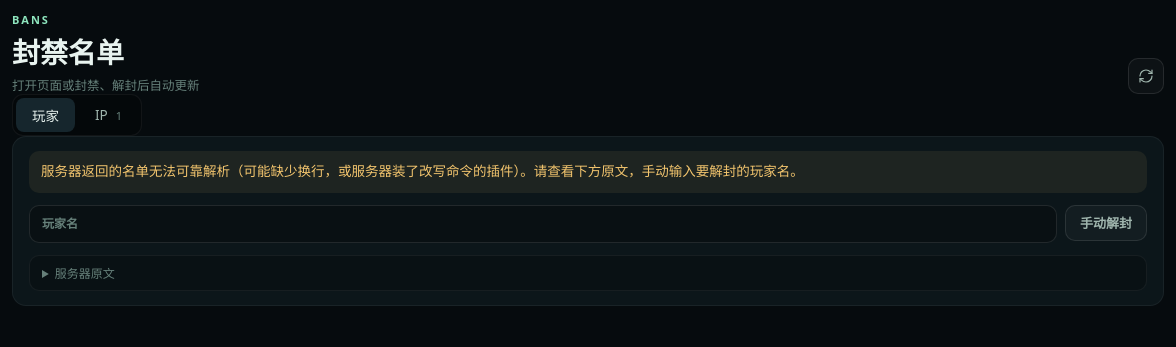
Scenario: player bans › falls back to raw output and a manual pardon field when the list cannot be parsed
expect the text "无法可靠解析" is shown: met, box [41, 162, 804, 180]
Type "@a" into the field named "要解封的玩家名" at [543, 224], box [29, 205, 1057, 243]
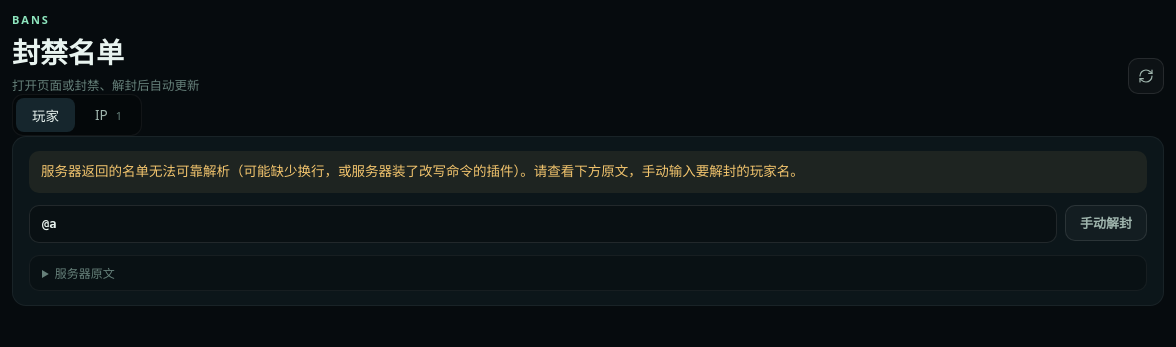
Click the button "手动解封" at [1106, 223], box [1065, 205, 1147, 241]
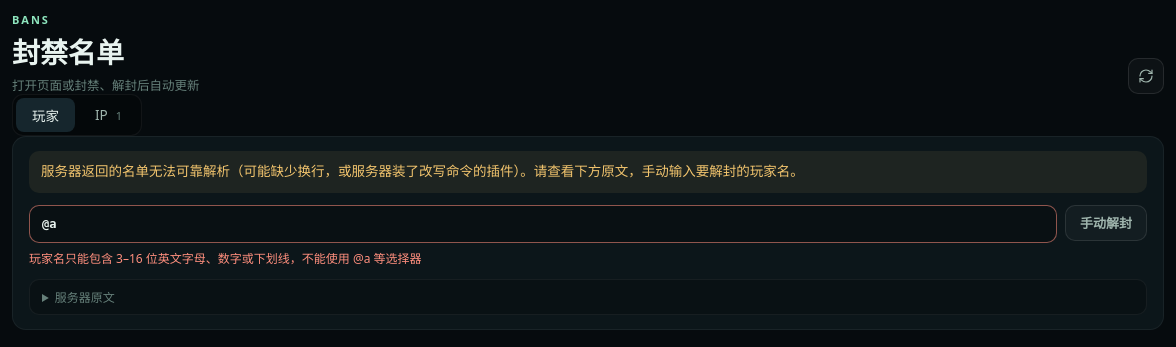
expect the text "玩家名只能包含 3–16 位英文字母、数字或下划线，不能使用 @a 等选择器" is shown: met, box [29, 250, 422, 267]
Replace the text in the field named "要解封的玩家名" with " Griefer99 " at [543, 224], box [29, 205, 1057, 243]
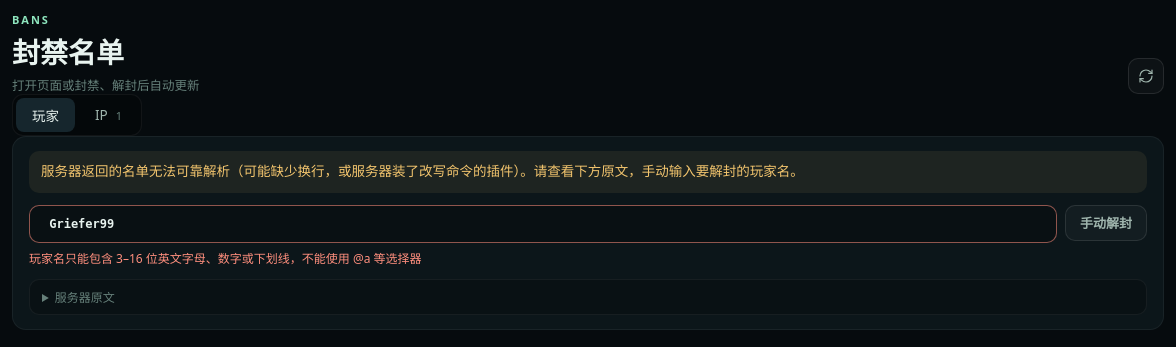
Click the button "手动解封" at [1106, 223], box [1065, 205, 1147, 241]
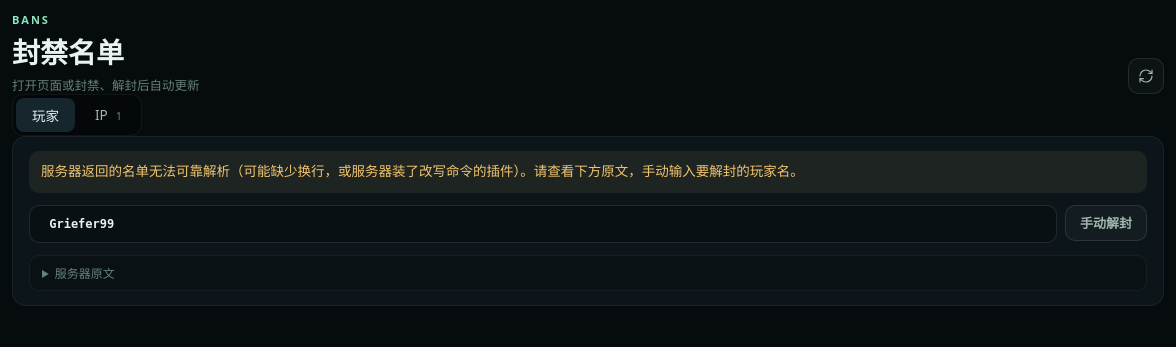
expect the text "玩家名只能包含" is gone: met
